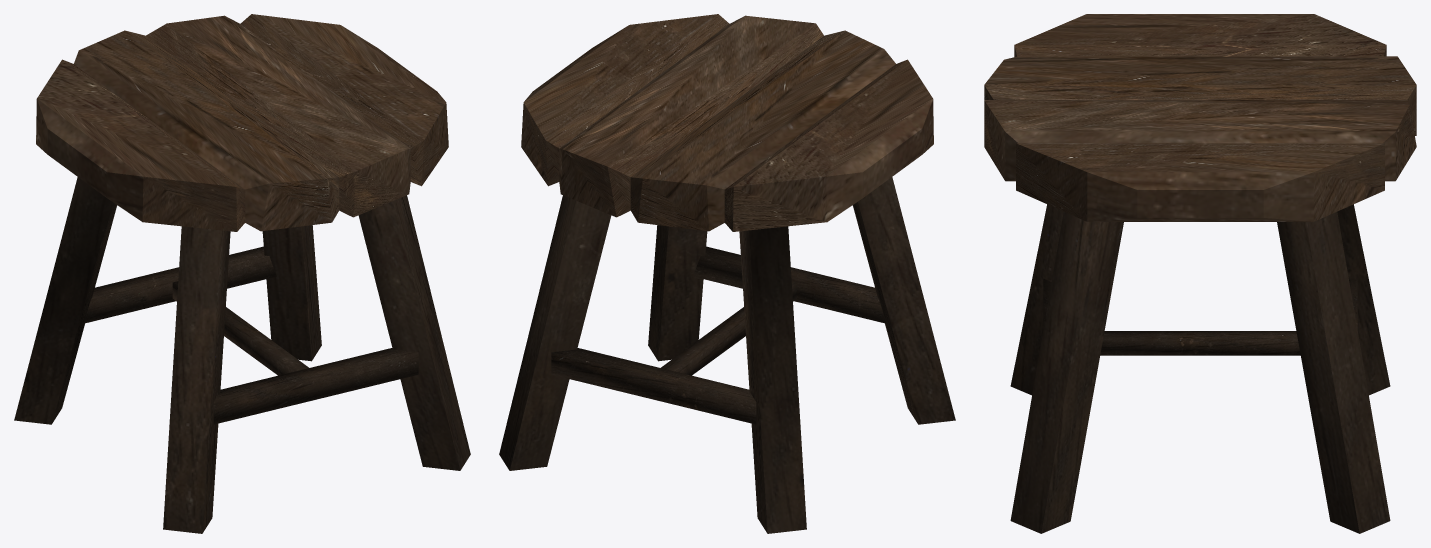
File: split-chair.fbx
3 renders of one model, left to right at view 1: azimuth 30°, elevation 25°; view 2: azimuth 150°, elevation 25°; view 3: azimuth 270°, elevation 25°, orthographic. The views are drawn at different scales.
Parts seen in each view (by area): view 1: SM_Prop_Stool_Round_01.003, SM_Prop_Stool_Round_01.002, SM_Prop_Stool_Round_01.004, SM_Prop_Stool_Round_01.007, SM_Prop_Stool_Round_01.009, SM_Prop_Stool_Round_01.001, SM_Prop_Stool_Round_01.008, SM_Prop_Stool_Round_01.006, SM_Prop_Stool_Round_01.010, SM_Prop_Stool_Round_01.011, SM_Prop_Stool_Round_01.012; view 2: SM_Prop_Stool_Round_01.003, SM_Prop_Stool_Round_01.002, SM_Prop_Stool_Round_01.004, SM_Prop_Stool_Round_01.008, SM_Prop_Stool_Round_01.010, SM_Prop_Stool_Round_01.001, SM_Prop_Stool_Round_01.007, SM_Prop_Stool_Round_01.011, SM_Prop_Stool_Round_01.009, SM_Prop_Stool_Round_01.006, SM_Prop_Stool_Round_01.012; view 3: SM_Prop_Stool_Round_01.001, SM_Prop_Stool_Round_01.002, SM_Prop_Stool_Round_01.009, SM_Prop_Stool_Round_01.010, SM_Prop_Stool_Round_01.003, SM_Prop_Stool_Round_01.004, SM_Prop_Stool_Round_01.012, SM_Prop_Stool_Round_01.007, SM_Prop_Stool_Round_01.008.
Part boxes in pixels (x1=…): SM_Prop_Stool_Round_01.003: x1=74, y1=30, x2=339, y2=231; SM_Prop_Stool_Round_01.002: x1=146, y1=15, x2=410, y2=217; SM_Prop_Stool_Round_01.004: x1=36, y1=59, x2=245, y2=231; SM_Prop_Stool_Round_01.007: x1=163, y1=226, x2=230, y2=533; SM_Prop_Stool_Round_01.009: x1=358, y1=195, x2=470, y2=470; SM_Prop_Stool_Round_01.001: x1=240, y1=14, x2=448, y2=186; SM_Prop_Stool_Round_01.008: x1=14, y1=177, x2=117, y2=424; SM_Prop_Stool_Round_01.006: x1=213, y1=348, x2=418, y2=424; SM_Prop_Stool_Round_01.010: x1=262, y1=225, x2=321, y2=361; SM_Prop_Stool_Round_01.011: x1=83, y1=246, x2=276, y2=323; SM_Prop_Stool_Round_01.012: x1=172, y1=281, x2=308, y2=375; SM_Prop_Stool_Round_01.003: x1=630, y1=30, x2=895, y2=231; SM_Prop_Stool_Round_01.002: x1=559, y1=15, x2=823, y2=217; SM_Prop_Stool_Round_01.004: x1=724, y1=59, x2=933, y2=231; SM_Prop_Stool_Round_01.008: x1=739, y1=226, x2=806, y2=533; SM_Prop_Stool_Round_01.010: x1=499, y1=195, x2=611, y2=470; SM_Prop_Stool_Round_01.001: x1=521, y1=14, x2=729, y2=186; SM_Prop_Stool_Round_01.007: x1=852, y1=177, x2=955, y2=424; SM_Prop_Stool_Round_01.011: x1=551, y1=348, x2=756, y2=424; SM_Prop_Stool_Round_01.009: x1=648, y1=225, x2=707, y2=361; SM_Prop_Stool_Round_01.006: x1=693, y1=246, x2=886, y2=323; SM_Prop_Stool_Round_01.012: x1=661, y1=281, x2=797, y2=375; SM_Prop_Stool_Round_01.001: x1=1016, y1=143, x2=1384, y2=221; SM_Prop_Stool_Round_01.002: x1=984, y1=100, x2=1416, y2=181; SM_Prop_Stool_Round_01.009: x1=1010, y1=212, x2=1123, y2=533; SM_Prop_Stool_Round_01.010: x1=1277, y1=212, x2=1390, y2=533; SM_Prop_Stool_Round_01.003: x1=984, y1=56, x2=1416, y2=135; SM_Prop_Stool_Round_01.004: x1=1014, y1=14, x2=1386, y2=56; SM_Prop_Stool_Round_01.012: x1=1100, y1=331, x2=1300, y2=355; SM_Prop_Stool_Round_01.007: x1=1010, y1=204, x2=1063, y2=395; SM_Prop_Stool_Round_01.008: x1=1337, y1=204, x2=1390, y2=395.
Bounding box in the file's own units: 53.31 × 51.97 × 56.56.
